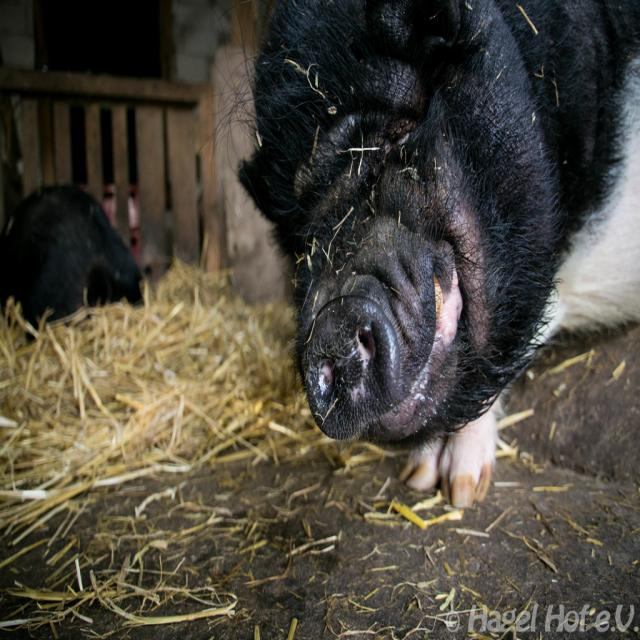Pig: (196, 0, 640, 507), (4, 184, 145, 344)
